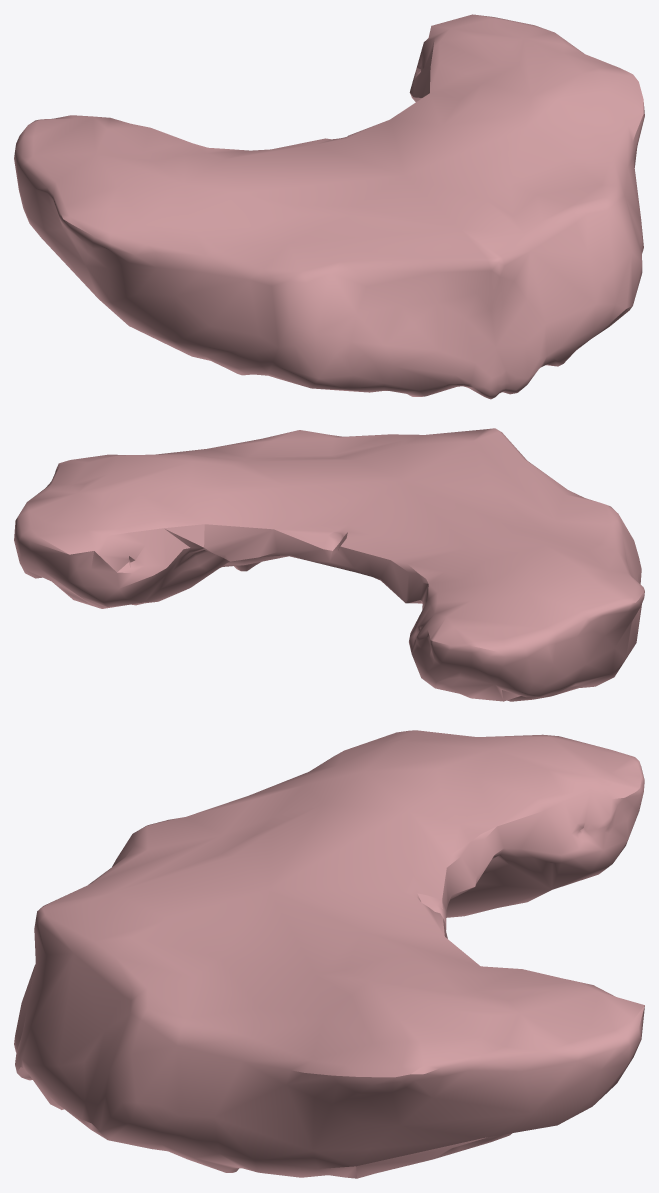
File: fma59763_fj1252.glb
3 renders of one model, top to bottom at view 1: azimuth 30°, elevation 25°; view 2: azimuth 150°, elevation 25°; view 3: azimuth 270°, elevation 25°, orthographic. The views are drawn at different scales.
Parts seen in each view (by area): view 1: FMA59763_FJ1252; view 2: FMA59763_FJ1252; view 3: FMA59763_FJ1252.
Boxes of the visible parts, bbox=[...] form: FMA59763_FJ1252: bbox=[14, 14, 644, 399]; FMA59763_FJ1252: bbox=[14, 428, 644, 701]; FMA59763_FJ1252: bbox=[14, 730, 644, 1178].
Bounding box in the file's own units: 0.0695 × 0.0184 × 0.0539.
